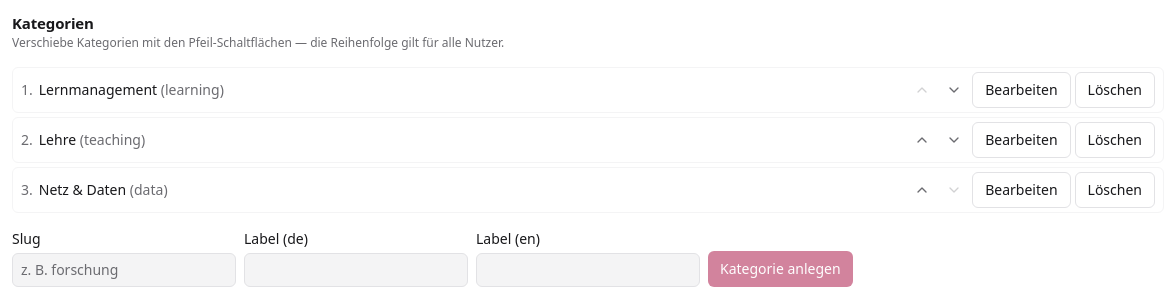
Test: CategoriesAdmin — edit, delete and reorder (issue #130) › edits a label and the slug through PATCH, prefilled from the row
Click the button "Bearbeiten" in the row of "Lernmanagement" at (1021, 90), box [972, 72, 1071, 108]
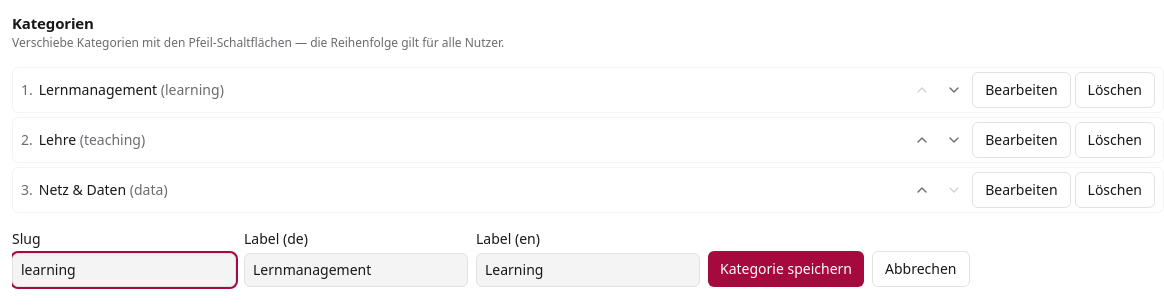
expect the field labelled "Slug" holds "learning": met
expect the field labelled "Label (de)" holds "Lernmanagement": met, box [244, 252, 468, 286]
expect the field labelled "Label (en)" holds "Learning": met, box [476, 252, 700, 286]
Replace the text in the field labelled "Slug" with "lernen" at (124, 270), box [12, 252, 236, 286]
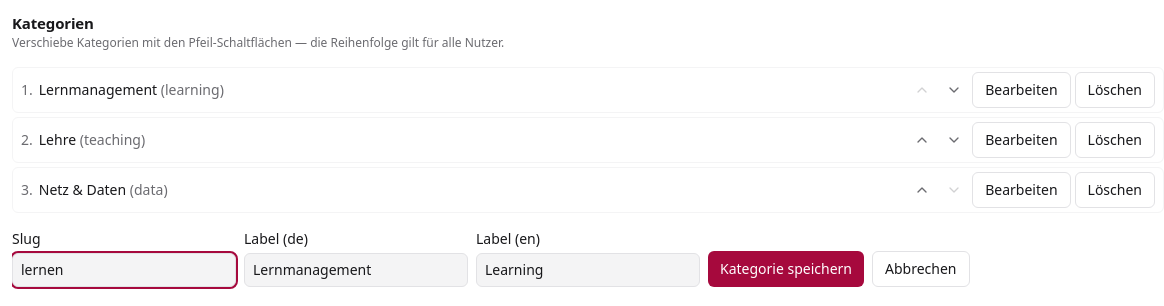
Replace the text in the field labelled "Label (de)" with "Lernen" at (356, 270), box [244, 252, 468, 286]
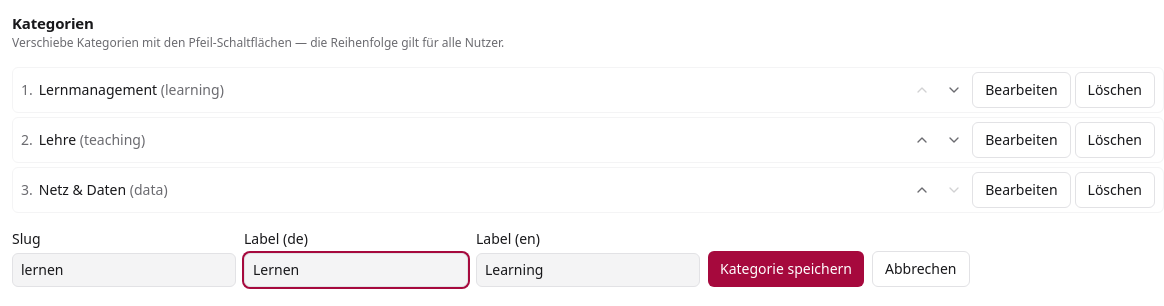
Click the button "Kategorie speichern" at (786, 268), box [708, 250, 864, 286]
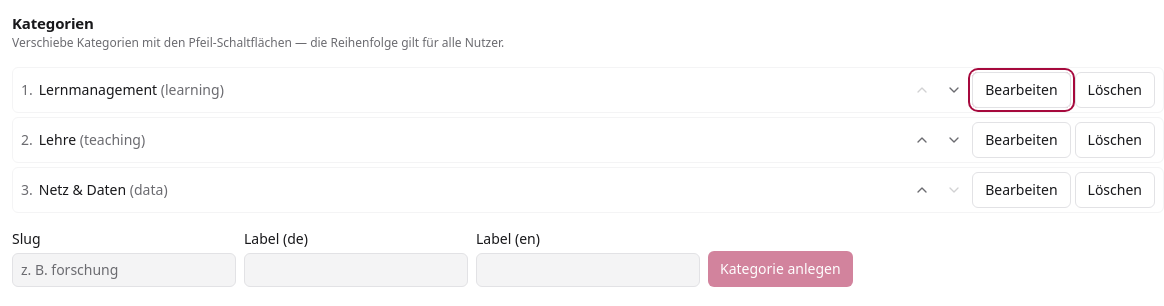
expect the button "Kategorie speichern" is gone: met
